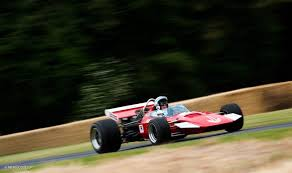f1_car: (85, 90, 249, 160)
